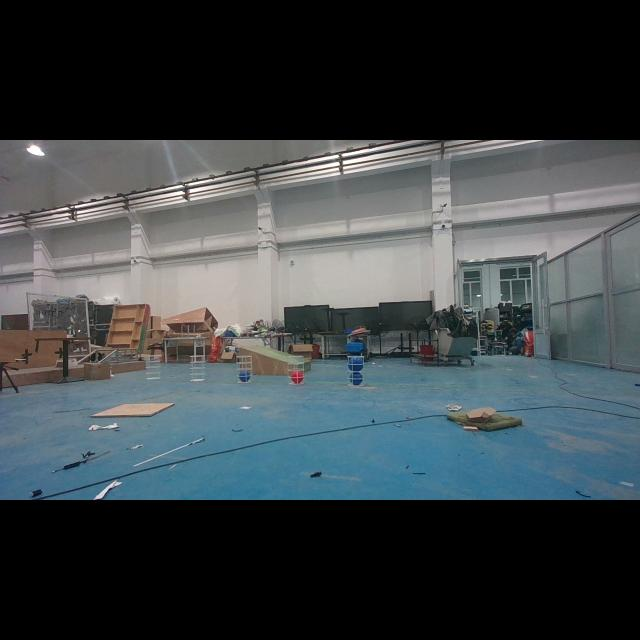B: (348, 356, 364, 372), (348, 372, 364, 384), (238, 372, 252, 382)
R: (290, 372, 304, 384)
S: (345, 354, 369, 388), (285, 355, 307, 387), (233, 354, 255, 384), (188, 354, 208, 384), (145, 352, 163, 382)
